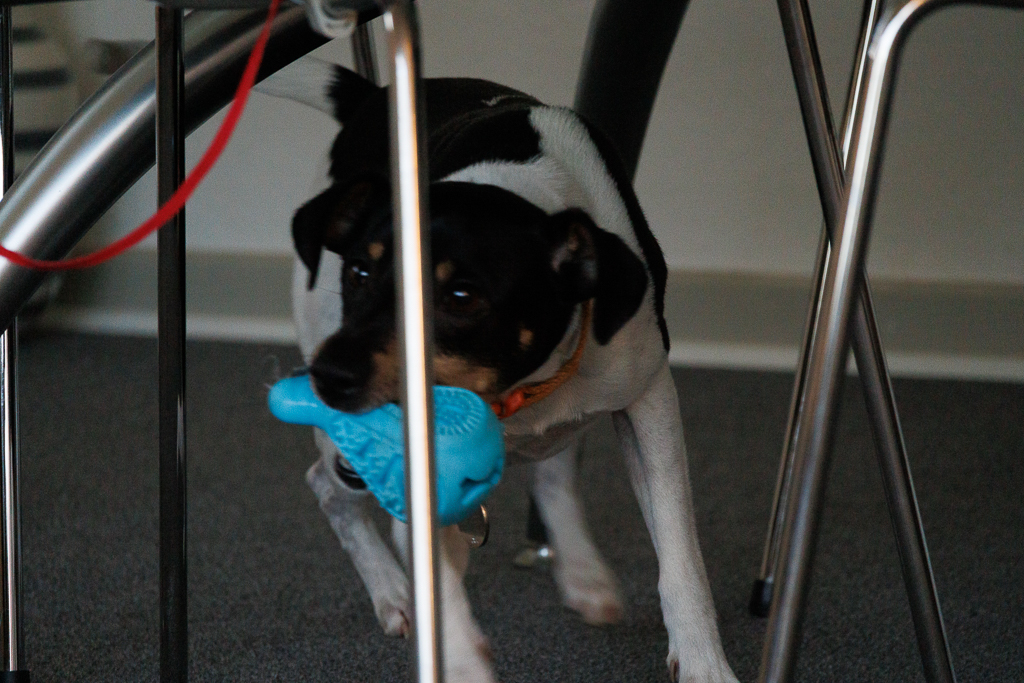Dog: (65, 21, 754, 683)
